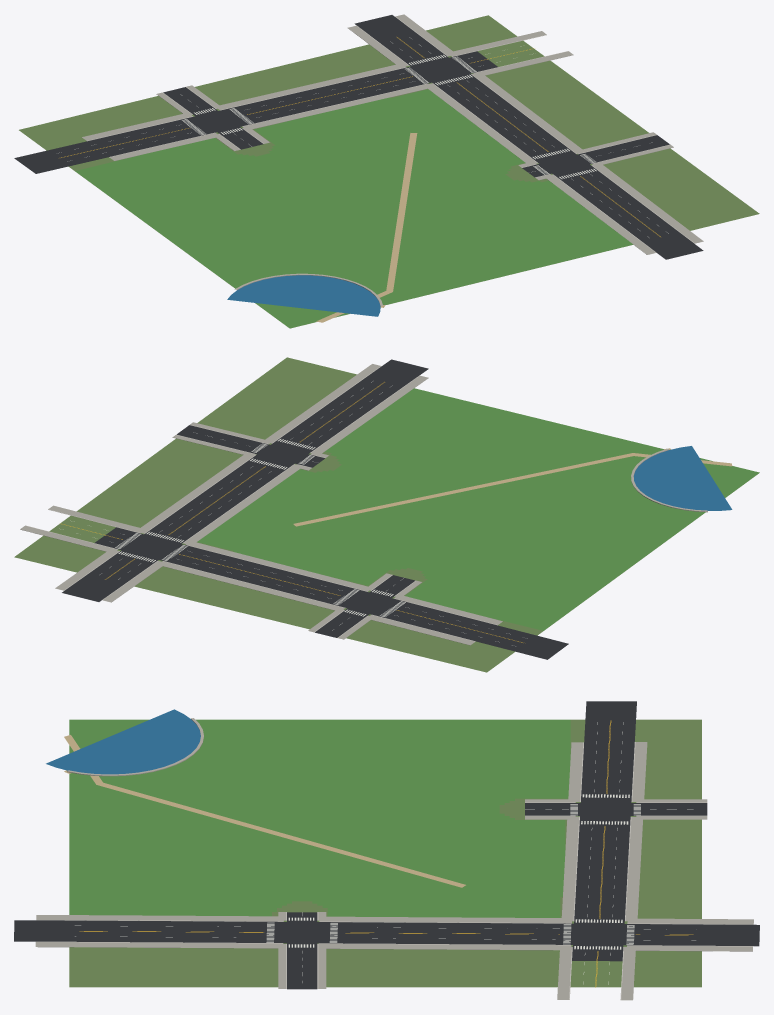
Rendered from Ground_6_6.fbx.
3 renders of one model, top to bottom at view 1: azimuth 30°, elevation 25°; view 2: azimuth 150°, elevation 25°; view 3: azimuth 270°, elevation 25°, orthographic. The views are drawn at different scales.
Visible parts, largest first — view 1: Ground_6_6; view 2: Ground_6_6; view 3: Ground_6_6.
Part boxes in pixels (x1,y1,x2,y2): Ground_6_6: [14, 14, 759, 328]; Ground_6_6: [14, 357, 759, 672]; Ground_6_6: [14, 701, 759, 1000].
Size of the model in its own units: 280 by 0.4 by 295.
